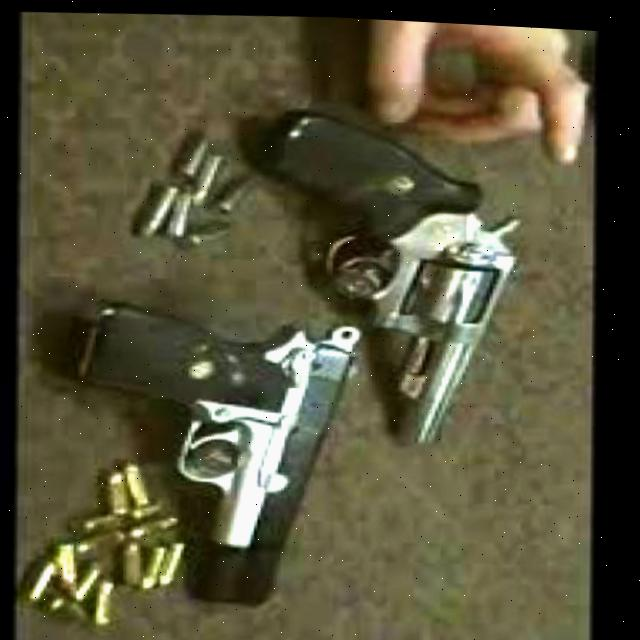pistol: (240, 55, 530, 478), (73, 245, 383, 639)
